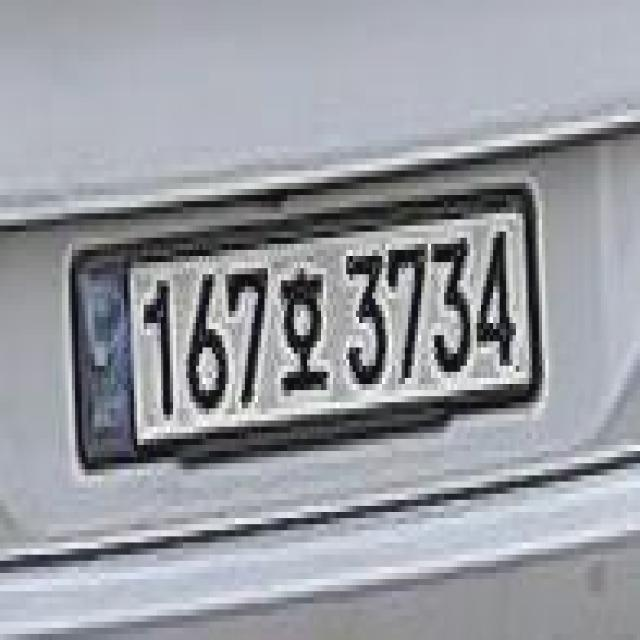illegal_plate: (64, 179, 541, 471)
